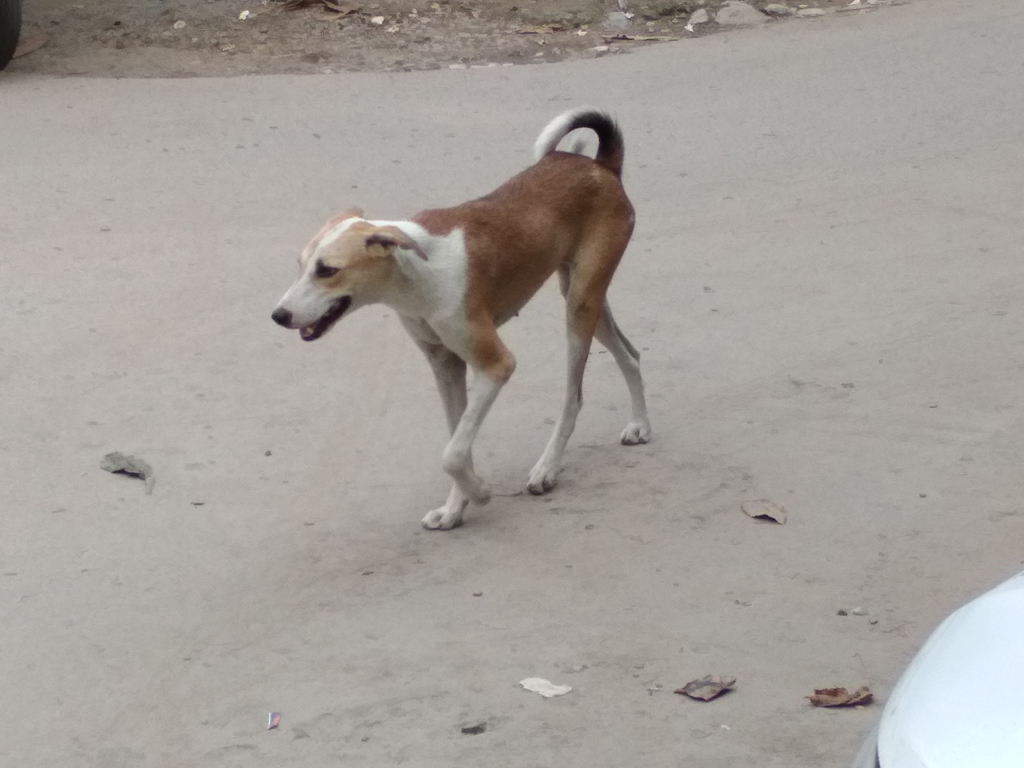dog: (270, 106, 656, 529)
